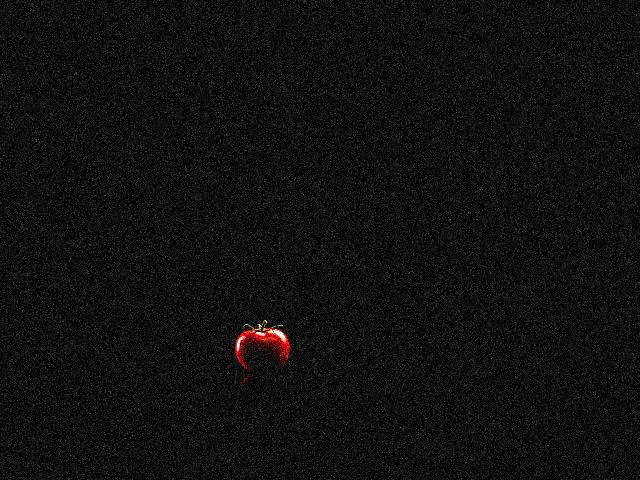tomato: (235, 327, 290, 371)
